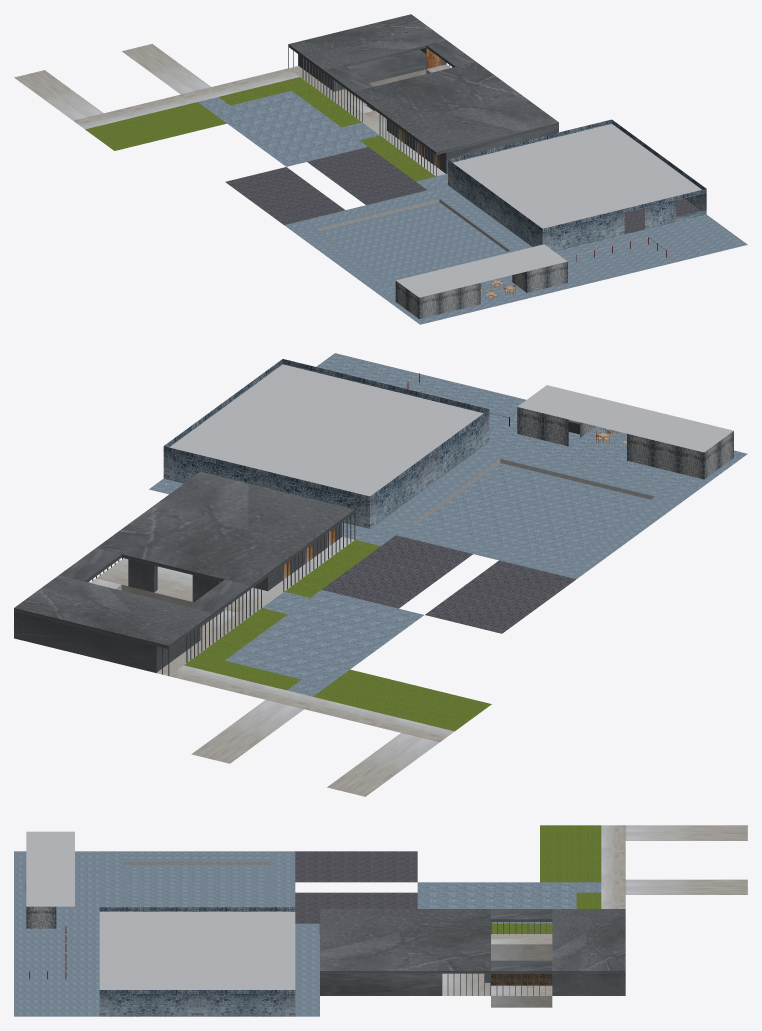
The model's file is Patio_Principal.obj.
The picture shows the model from 3 angles, top to bottom: view 1: azimuth 30°, elevation 25°; view 2: azimuth 150°, elevation 25°; view 3: azimuth 270°, elevation 25°; orthographic projection. The views are drawn at different scales.
Visible parts, largest first — view 1: Patio_Principal, Edificio1, Plano.007, Plano.009, Plano.008, Pasto.003, Edificio2_Pasillo, Edificio2_Pasillo.002, Edificio2_Pasillo.001, Plano.002, Edificio1_Pasillo, Edificio1_Barrotes (+3 smaller); view 2: Patio_Principal, Edificio1, Plano.007, Plano.008, Plano.009, Pasto.003, Edificio2_Pasillo, Edificio2_Pasillo.001, Edificio2_Pasillo.002, Edificio1_Pasillo, Edificio1_Barrotes, Plano.003 (+4 smaller); view 3: Patio_Principal, Edificio1, Plano.007, Plano.009, Pasto.003, Plano.008, Plano.001, Edificio2_Pasillo, Edificio2_Pasillo.002, Edificio2_Pasillo.001, Edificio1_centro, Plano.003 (+5 smaller).
Part boxes in pixels (box(x1,y1,x2,y2)): Patio_Principal: box(284, 119, 747, 324); Edificio1: box(288, 14, 558, 173); Plano.007: box(210, 90, 367, 166); Plano.009: box(225, 167, 344, 224); Plano.008: box(307, 147, 426, 204); Pasto.003: box(85, 102, 226, 150); Edificio2_Pasillo: box(73, 68, 299, 129); Edificio2_Pasillo.002: box(14, 70, 103, 120); Edificio2_Pasillo.001: box(122, 44, 210, 94); Plano.002: box(345, 49, 426, 88); Edificio1_Pasillo: box(289, 66, 445, 176); Edificio1_Barrotes: box(288, 47, 436, 176); Patio_Principal: box(163, 353, 747, 579); Edificio1: box(14, 471, 355, 672); Plano.007: box(225, 590, 423, 685); Plano.008: box(321, 535, 472, 608); Plano.009: box(425, 560, 575, 633); Pasto.003: box(313, 669, 491, 731); Edificio2_Pasillo: box(169, 665, 454, 742); Edificio2_Pasillo.001: box(191, 700, 303, 763); Edificio2_Pasillo.002: box(327, 733, 439, 796); Edificio1_Pasillo: box(157, 537, 354, 675); Edificio1_Barrotes: box(156, 513, 355, 675); Plano.003: box(97, 558, 267, 612); Patio_Principal: box(14, 831, 295, 1016); Edificio1: box(320, 909, 625, 995); Plano.007: box(417, 882, 576, 923); Plano.009: box(295, 851, 417, 882); Pasto.003: box(540, 825, 601, 882); Plano.008: box(295, 892, 417, 923); Plano.001: box(295, 923, 319, 1016); Edificio2_Pasillo: box(601, 825, 625, 908); Edificio2_Pasillo.002: box(625, 825, 747, 840); Edificio2_Pasillo.001: box(625, 879, 747, 894); Edificio1_centro: box(491, 944, 552, 1007); Plano.003: box(442, 973, 490, 995).
Bounding box in the file's own units: 74 × 8.8 × 120.
379 materials, 379 textured.
